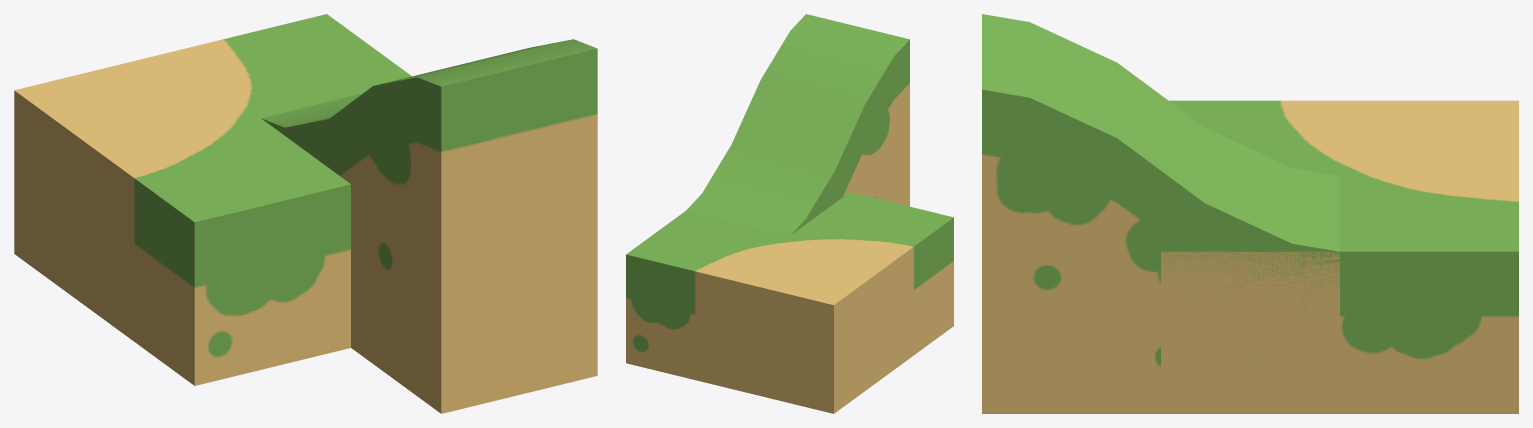
Rendered from Ground.fbx.
3 views of the same model, side by side, from view 1: azimuth 30°, elevation 25°; view 2: azimuth 150°, elevation 25°; view 3: azimuth 270°, elevation 25° (orthographic). The views are drawn at different scales.
Parts seen in each view (by area): view 1: Ground_04, Ground_03; view 2: Ground_04, Ground_03; view 3: Ground_03, Ground_04, Ground_01.
Part boxes in pixels (left/top/right/bottom): Ground_04: left=14, top=14, right=411, bottom=385; Ground_03: left=261, top=39, right=597, bottom=413; Ground_04: left=626, top=192, right=953, bottom=413; Ground_03: left=686, top=14, right=909, bottom=235; Ground_03: left=982, top=14, right=1339, bottom=413; Ground_04: left=1161, top=100, right=1518, bottom=413; Ground_01: left=1161, top=251, right=1339, bottom=413.
Size of the model in its own units: 400 by 400 by 600.
